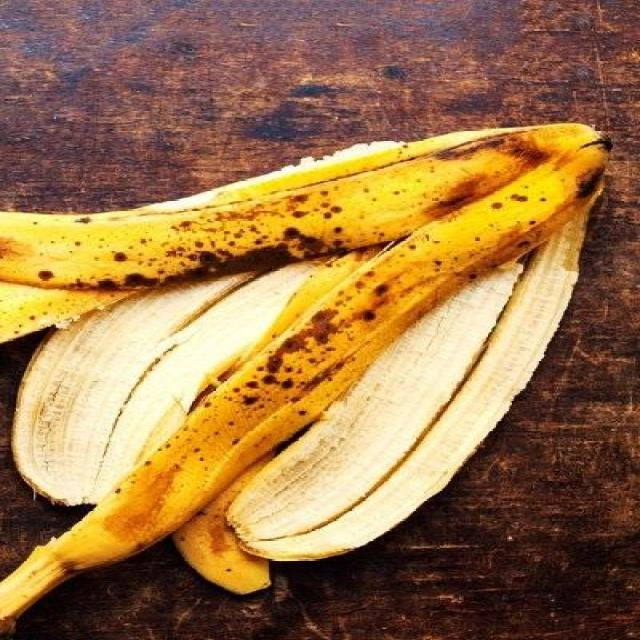Wet Waste: (2, 121, 614, 639)
